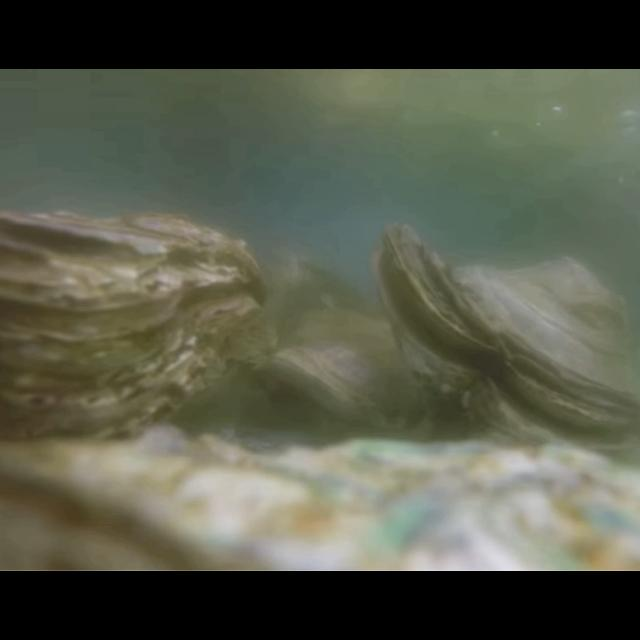Oyster-Closed: (0, 426, 640, 572), (1, 208, 270, 462), (274, 310, 440, 440)
Oyster-Open: (368, 222, 640, 472)
